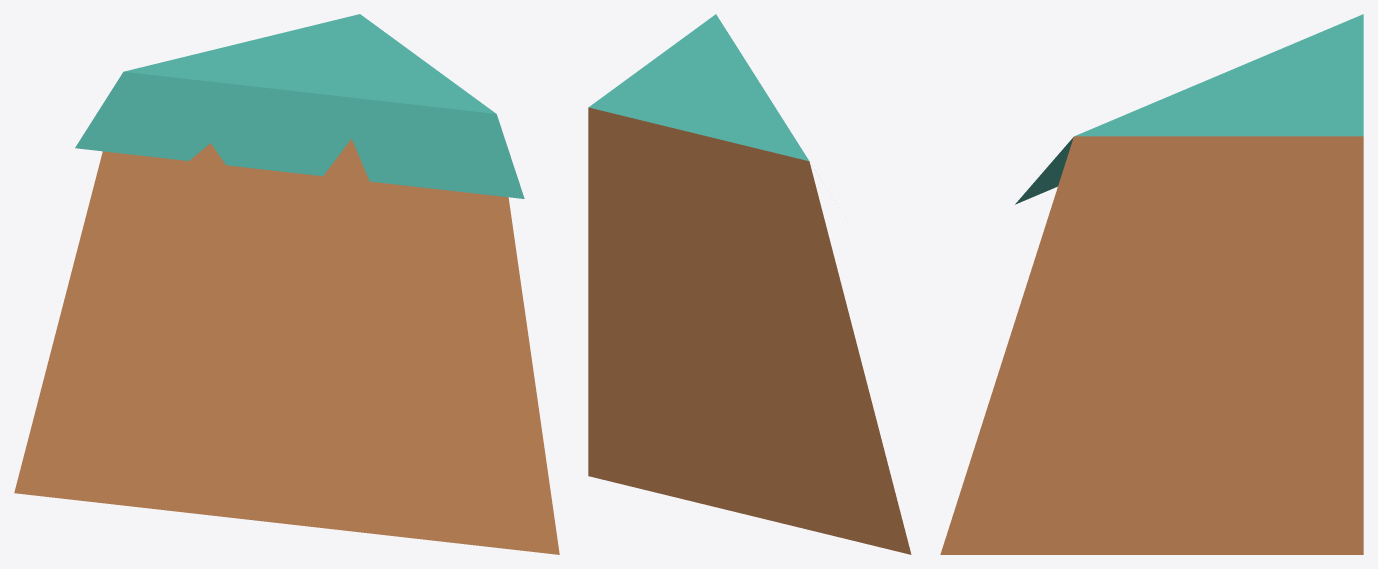
Rendered from cliffBrown_halfCorner.fbx.
3 views of the same model, side by side, from view 1: azimuth 30°, elevation 25°; view 2: azimuth 150°, elevation 25°; view 3: azimuth 270°, elevation 25° (orthographic). The views are drawn at different scales.
Visible parts, largest first — view 1: cliffBrown_halfCorner; view 2: cliffBrown_halfCorner; view 3: cliffBrown_halfCorner.
Part boxes in pixels (x1,y1,x2,y2): cliffBrown_halfCorner: (14, 14, 559, 554); cliffBrown_halfCorner: (588, 14, 911, 554); cliffBrown_halfCorner: (940, 14, 1363, 554).
Bounding box in the file's own units: 4.58 × 5 × 4.58.
